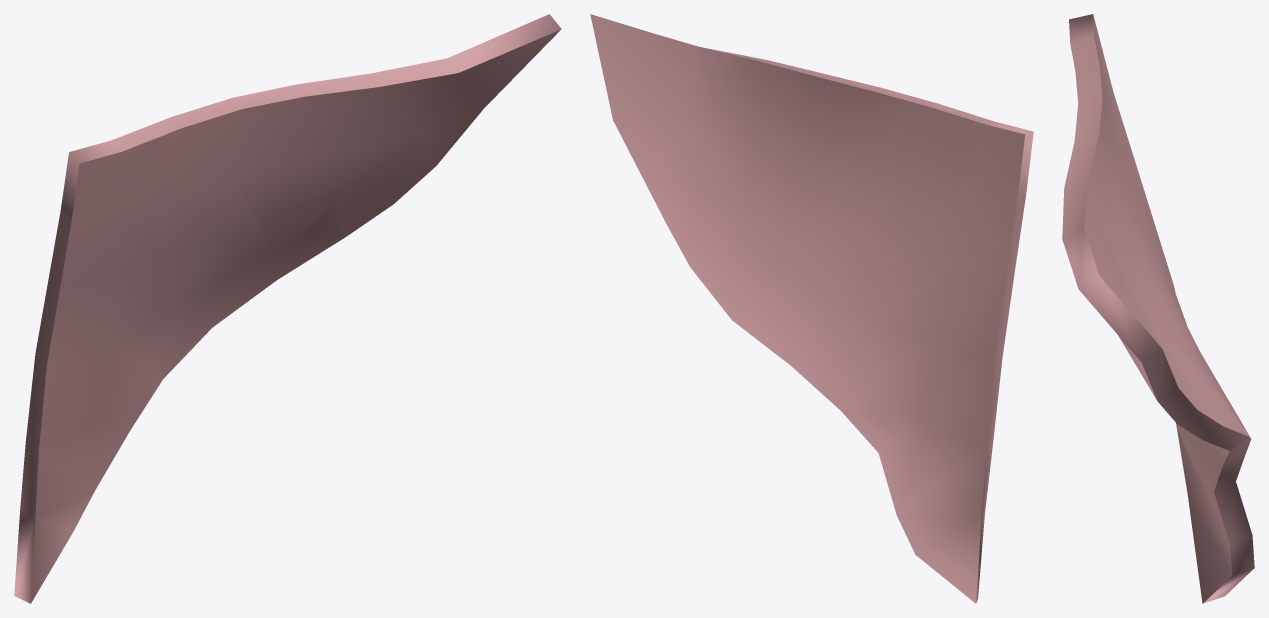
3 renders of one model, left to right at view 1: azimuth 30°, elevation 25°; view 2: azimuth 150°, elevation 25°; view 3: azimuth 270°, elevation 25°, orthographic. The views are drawn at different scales.
Parts seen in each view (by area): view 1: ZA_51e3e3f13917f70b; view 2: ZA_51e3e3f13917f70b; view 3: ZA_51e3e3f13917f70b.
Boxes of the visible parts, x1,y1,x2,y2 form: ZA_51e3e3f13917f70b: (14, 14, 561, 603); ZA_51e3e3f13917f70b: (590, 14, 1033, 603); ZA_51e3e3f13917f70b: (1062, 14, 1254, 603).
Bounding box in the file's own units: 0.0814 × 0.0808 × 0.0232.
